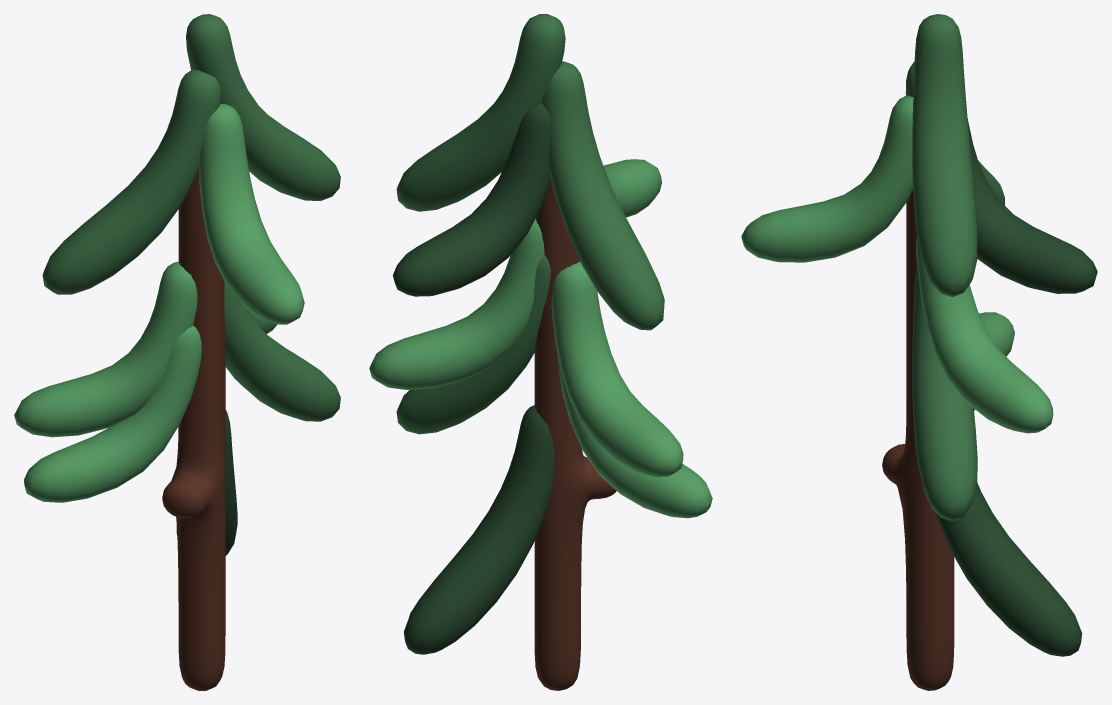
The model's file is TREE.fbx.
3 renders of one model, left to right at view 1: azimuth 30°, elevation 25°; view 2: azimuth 150°, elevation 25°; view 3: azimuth 270°, elevation 25°, orthographic.
Parts seen in each view (by area): view 1: EVERGREEN3.002; view 2: EVERGREEN3.002; view 3: EVERGREEN3.002.
Boxes of the visible parts, bbox=[...] form: EVERGREEN3.002: bbox=[14, 14, 340, 690]; EVERGREEN3.002: bbox=[369, 14, 712, 690]; EVERGREEN3.002: bbox=[741, 14, 1097, 690].
Bounding box in the file's own units: 415 × 853 × 407.
